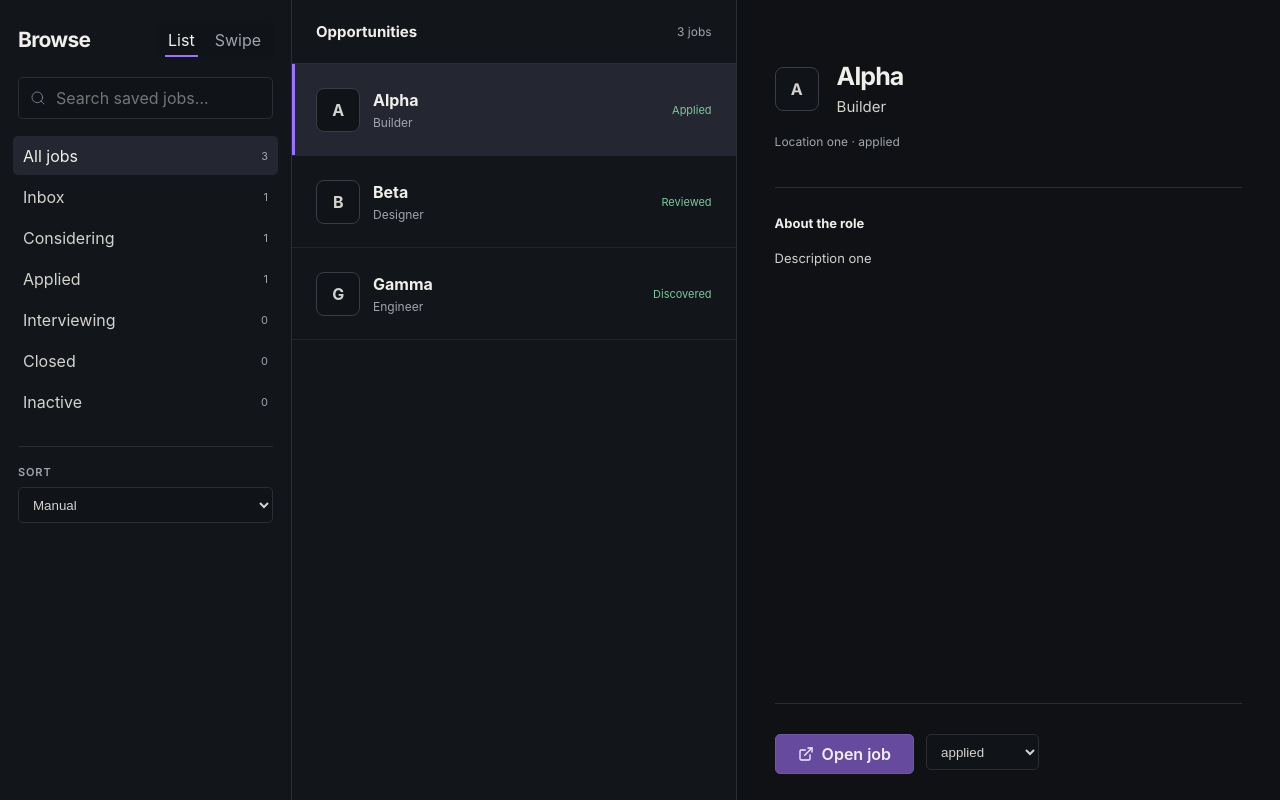
Test: rejected status updates are visible beside the status control and clear after success
The image size is (1280, 800).
Expected: the text "Description one" is shown, left=775, top=251, right=872, bottom=267
Select "interviewing" in the dropdown named "Change Alpha status" at [983, 752], box left=926, top=734, right=1039, bottom=770
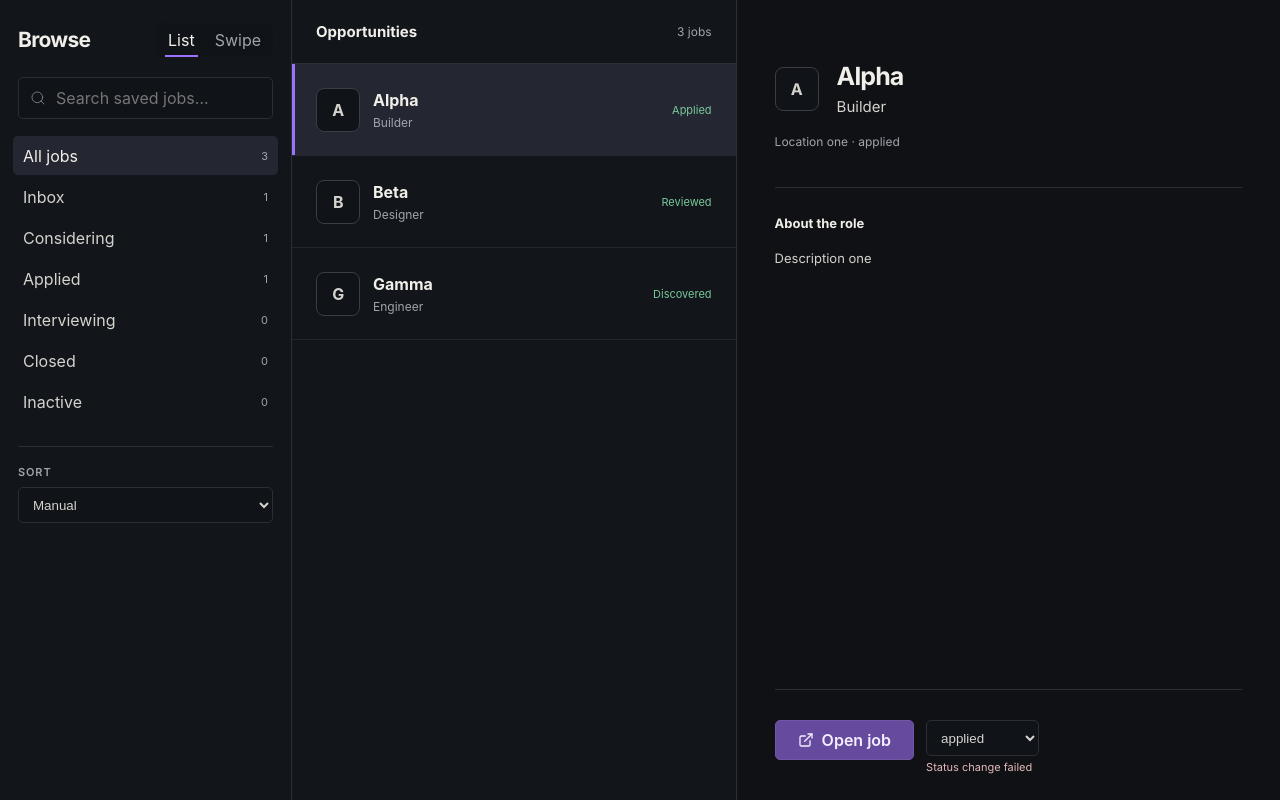
Expected: the message reads "Status change failed", left=926, top=760, right=1032, bottom=774
Select "closed" in the dropdown named "Change Alpha status" at [983, 738], box left=926, top=720, right=1039, bottom=756
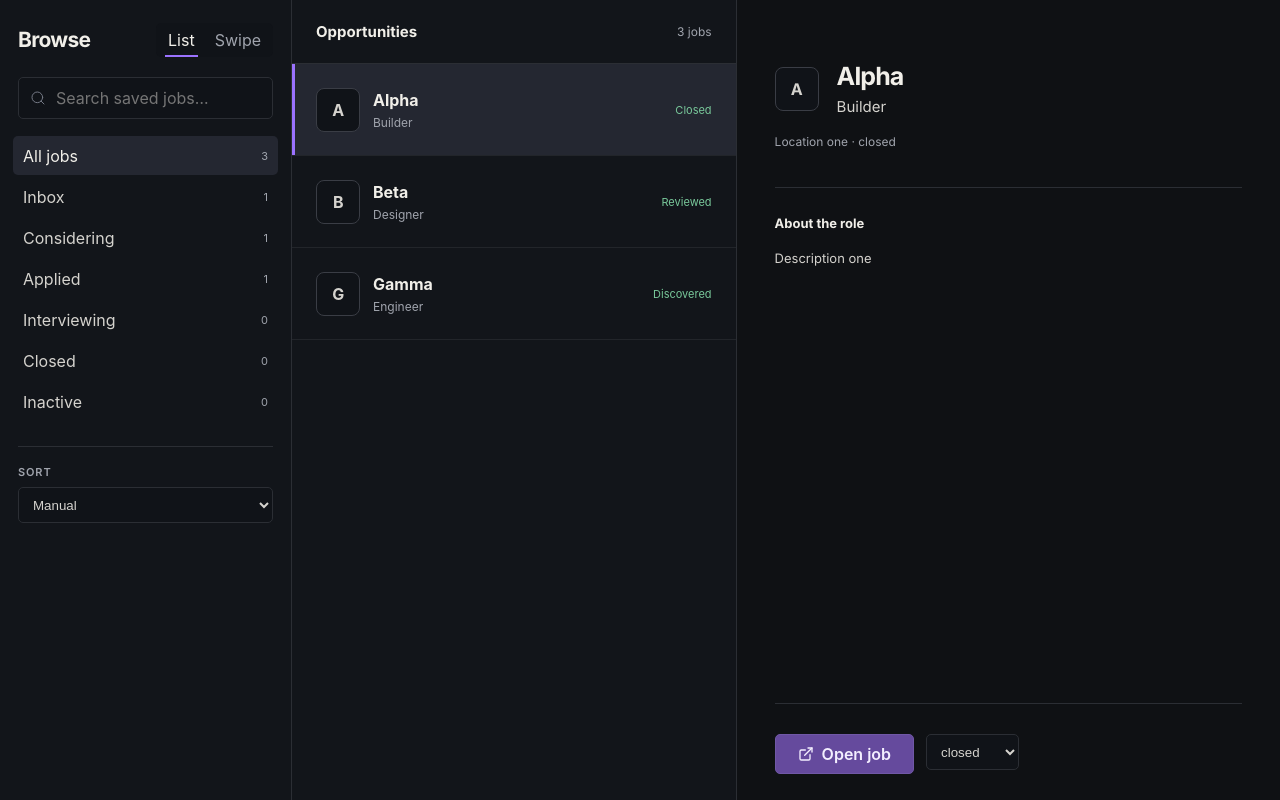
Expected: the text "Status change failed" is gone
